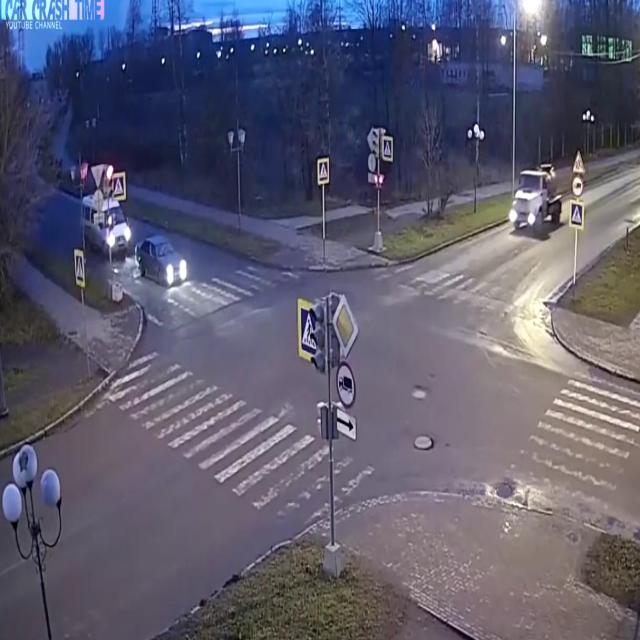non_accident: (72, 181, 192, 295)
